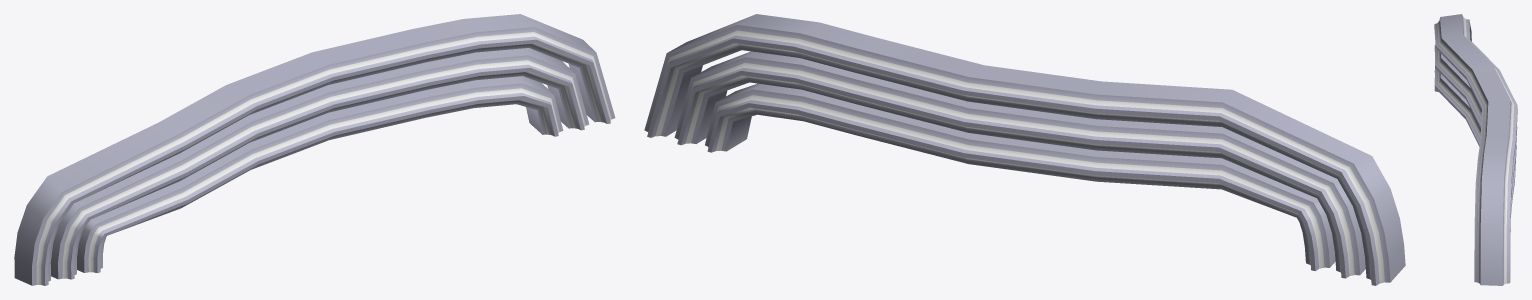
The model's file is Pipe_3.fbx.
3 views of the same model, side by side, from view 1: azimuth 30°, elevation 25°; view 2: azimuth 150°, elevation 25°; view 3: azimuth 270°, elevation 25° (orthographic). The views are drawn at different scales.
Parts seen in each view (by area): view 1: Pipe_3; view 2: Pipe_3; view 3: Pipe_3.
Boxes of the visible parts, box(x1,y1,x2,y2) form: Pipe_3: box(14, 14, 615, 285); Pipe_3: box(644, 14, 1405, 285); Pipe_3: box(1434, 14, 1517, 285).
Bounding box in the file's own units: 12.84 × 2.43 × 2.1.
